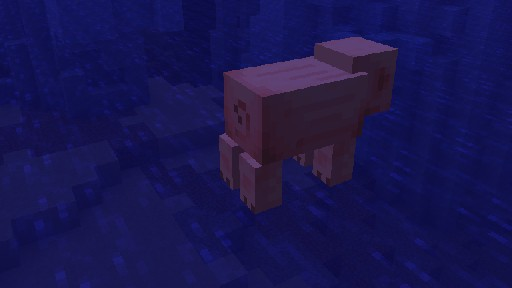pig: (218, 35, 398, 214)
